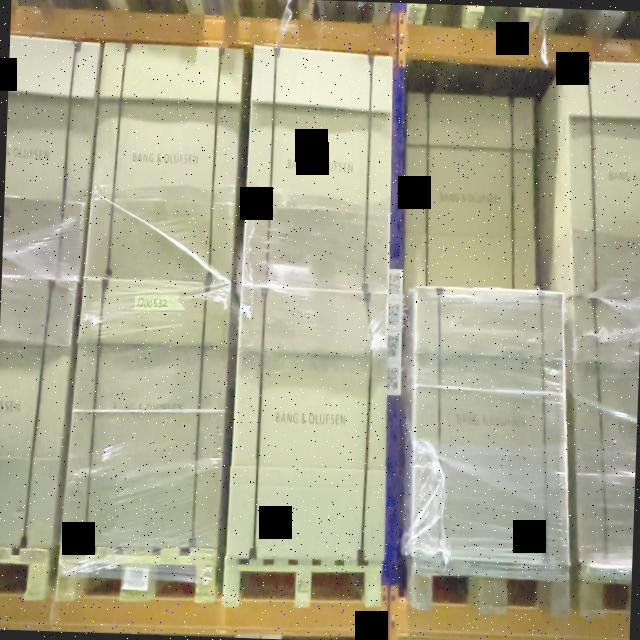box: (233, 298, 389, 556), (413, 296, 563, 560), (77, 286, 225, 546), (246, 47, 390, 290), (98, 46, 237, 288), (403, 91, 534, 286)
